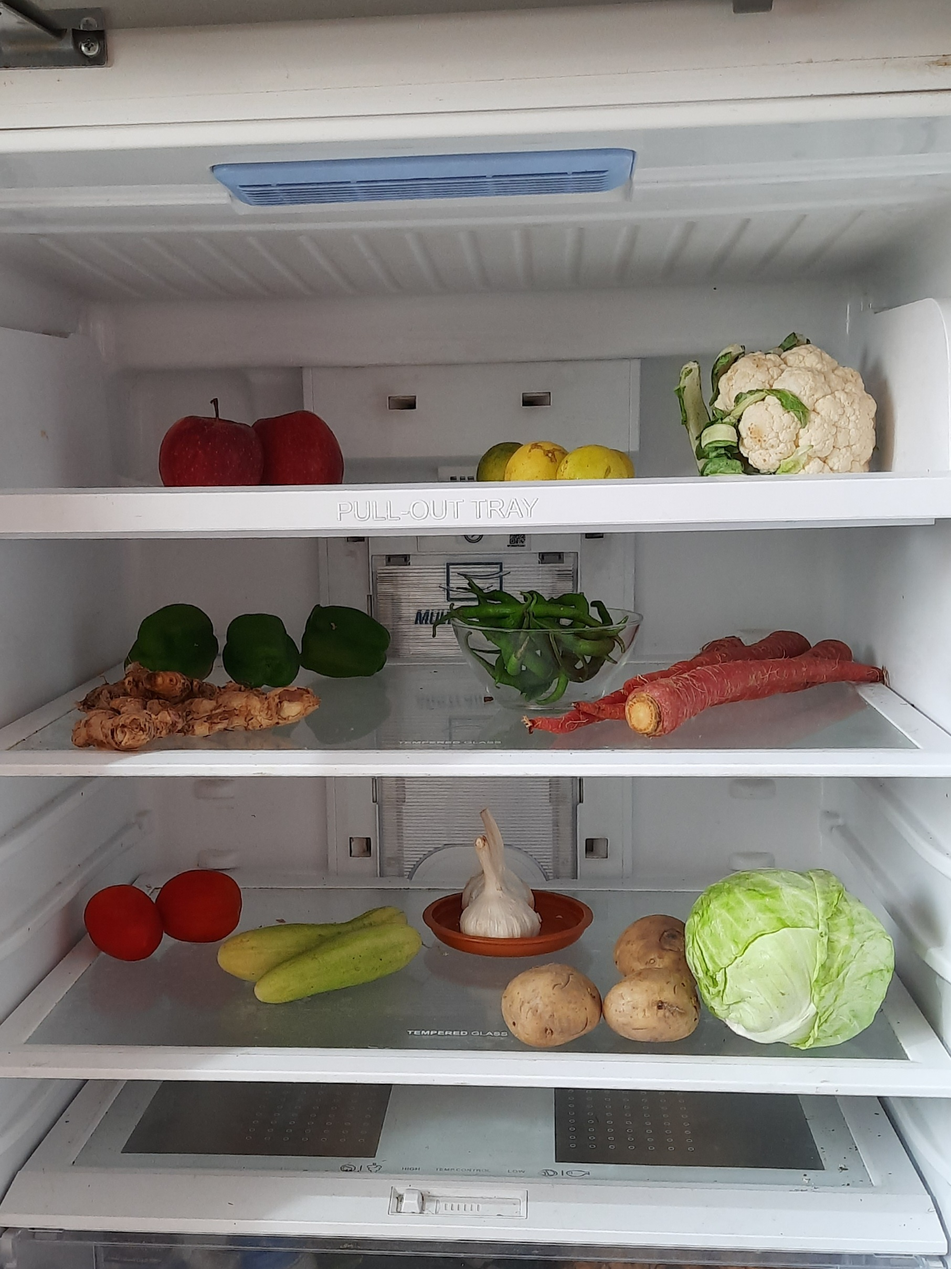apple: (152, 382, 357, 488)
cabbage: (685, 871, 895, 1051)
capsicum: (133, 604, 227, 691), (300, 604, 395, 678), (223, 612, 303, 687)
carrots: (517, 636, 885, 742)
cauliflower: (679, 337, 878, 475)
chillies: (451, 579, 633, 698)
cucumber: (216, 912, 422, 1005)
garlic: (458, 810, 538, 941)
ginger: (72, 662, 322, 756)
lemon: (478, 427, 642, 485)
potato: (605, 903, 703, 1041), (499, 959, 607, 1050)
tomato: (84, 867, 244, 954)
